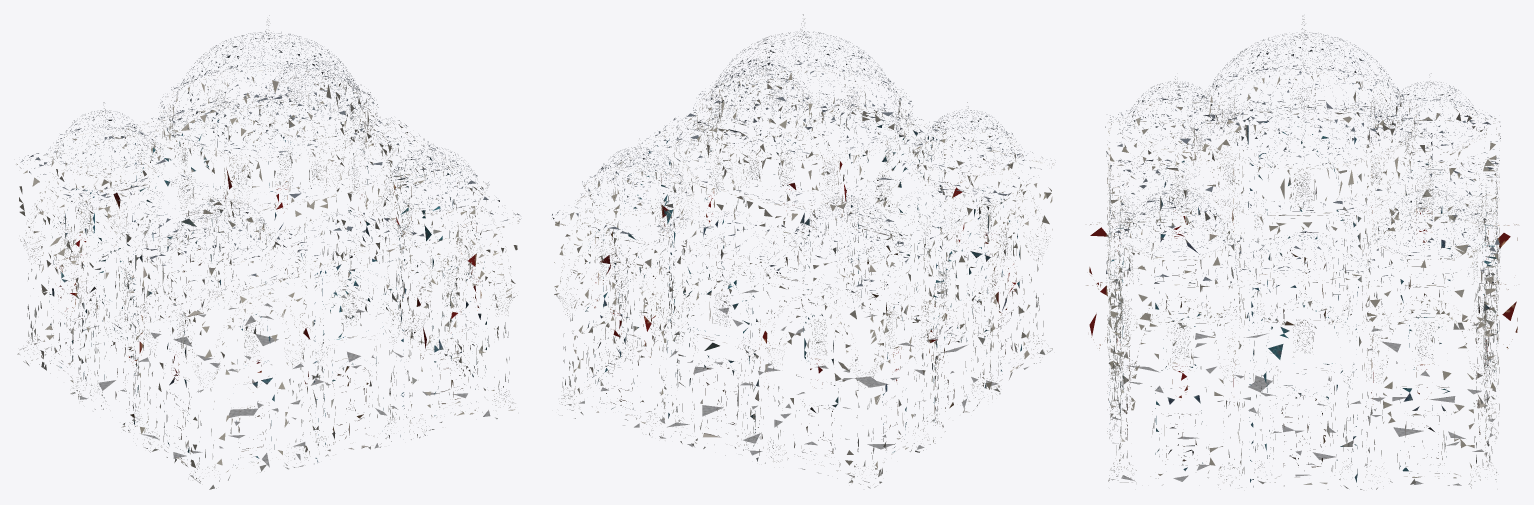
Rendered from ottoman_cityhall_preview.glb.
The picture shows the model from 3 angles, left to right: view 1: azimuth 30°, elevation 25°; view 2: azimuth 150°, elevation 25°; view 3: azimuth 270°, elevation 25°; orthographic projection. The views are drawn at different scales.
Parts seen in each view (by area): view 1: ottoman_cityhall_preview.glb; view 2: ottoman_cityhall_preview.glb; view 3: ottoman_cityhall_preview.glb.
Part boxes in pixels (x1,y1,x2,y2): ottoman_cityhall_preview.glb: [16, 15, 520, 489]; ottoman_cityhall_preview.glb: [552, 14, 1054, 488]; ottoman_cityhall_preview.glb: [1086, 16, 1518, 490].
Bounding box in the file's own units: 1.89 × 1.9 × 1.89.
Materials: 1 (1 with a texture image).
